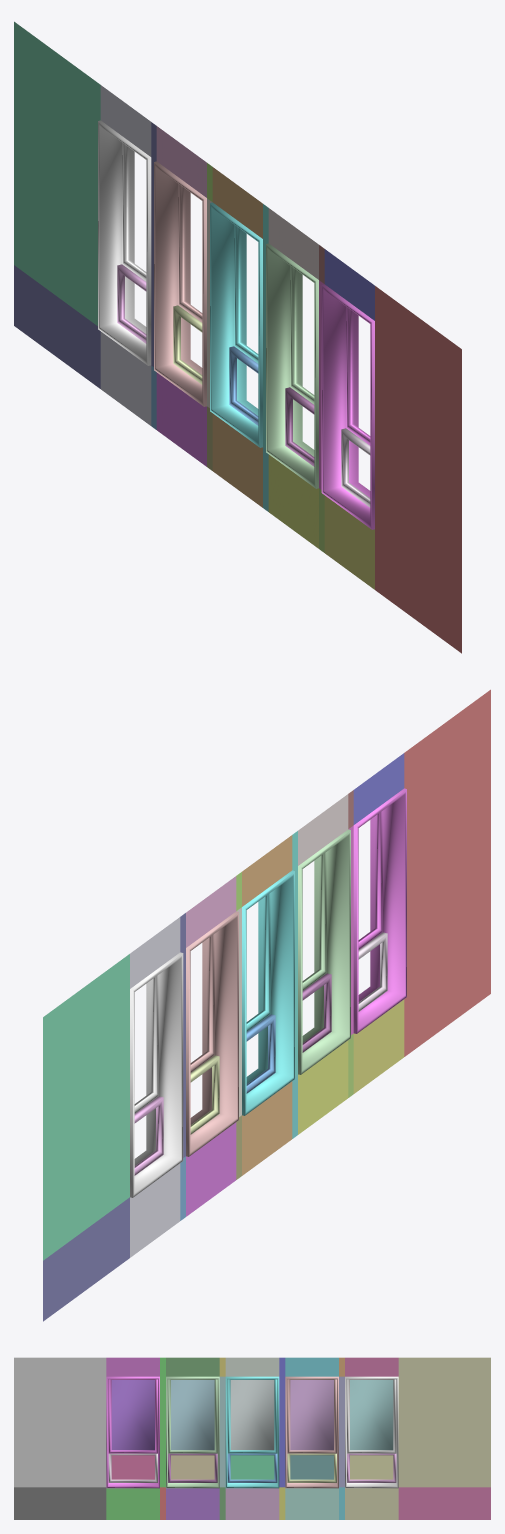
The model's file is SM_window_05_double.gltf.
3 views of the same model, one above another, from view 1: azimuth 30°, elevation 25°; view 2: azimuth 150°, elevation 25°; view 3: azimuth 270°, elevation 25° (orthographic). The views are drawn at different scales.
Visible parts, largest first — view 1: SM_window_05_double; view 2: SM_window_05_double; view 3: SM_window_05_double.
Part boxes in pixels (left/top/right/bottom): SM_window_05_double: left=14, top=21, right=461, bottom=653; SM_window_05_double: left=43, top=689, right=490, bottom=1321; SM_window_05_double: left=14, top=1357, right=490, bottom=1519.
Bounding box in the file's own units: 0.36 × 3 × 8.
